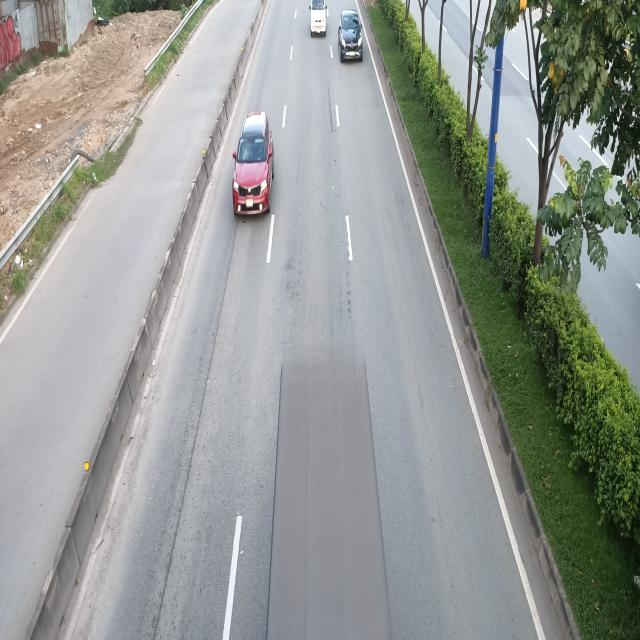car: (230, 110, 273, 215), (338, 9, 364, 63)
van: (309, 0, 328, 39)
